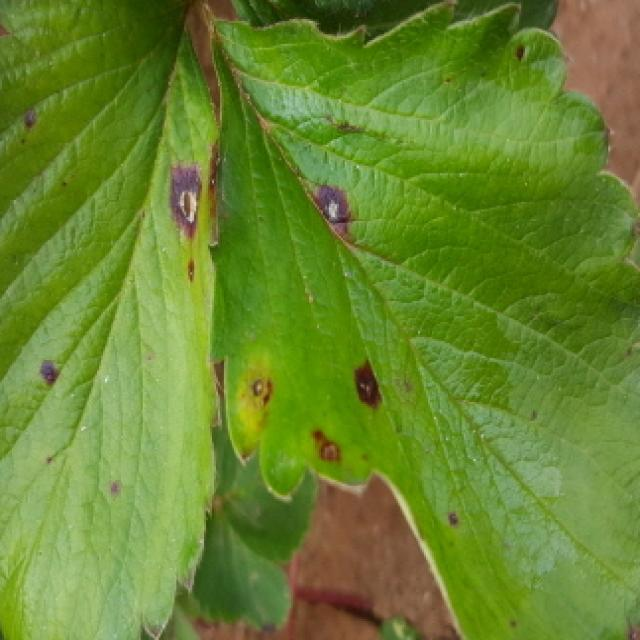Leaf Spot: (211, 0, 640, 640)
